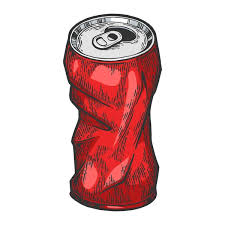can: (63, 14, 161, 211)
